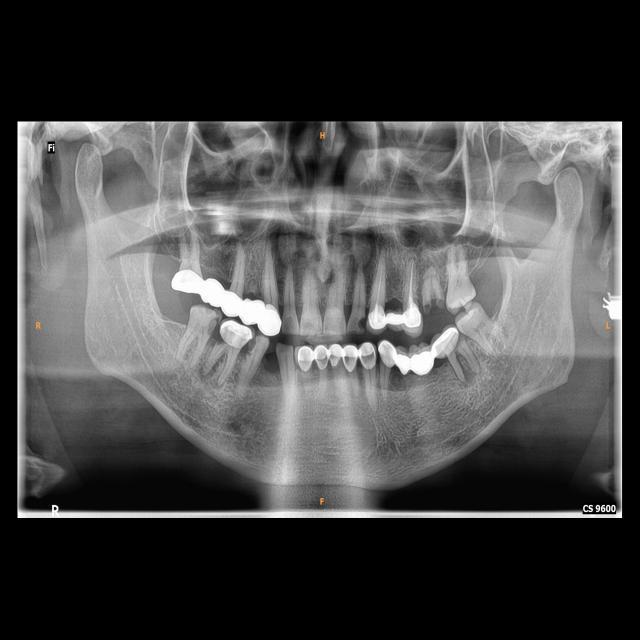dentin-curugu: (205, 316, 220, 334), (248, 336, 260, 356), (356, 316, 366, 332)
kanal-tedavisi: (369, 260, 386, 310), (403, 262, 418, 308)
kaplama: (427, 325, 461, 358), (221, 320, 253, 352), (167, 271, 203, 295), (260, 306, 282, 335), (363, 305, 388, 328), (378, 341, 396, 372), (296, 343, 314, 373), (222, 291, 242, 316), (404, 304, 422, 330), (328, 342, 346, 367), (343, 344, 359, 372), (359, 344, 377, 367), (315, 345, 329, 371)
kirik: (423, 290, 448, 316)
kopru: (389, 346, 444, 380), (190, 276, 234, 308), (233, 292, 270, 325), (377, 307, 412, 330)
